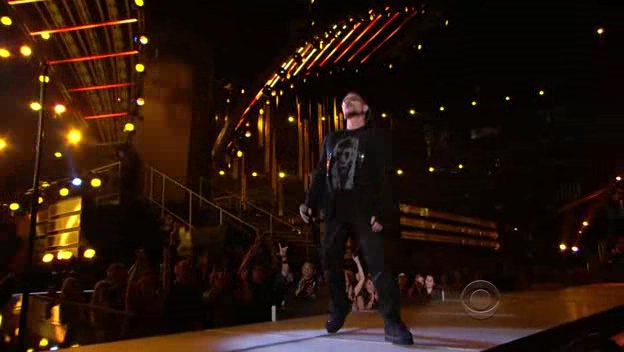person: (313, 92, 383, 234), (310, 92, 380, 234), (316, 92, 386, 234), (313, 89, 383, 231), (313, 95, 383, 237)
target_negative: (167, 57, 244, 312), (24, 198, 128, 277), (575, 135, 594, 265), (251, 346, 531, 352), (556, 133, 594, 165)
